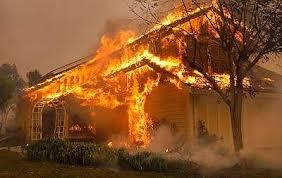fire: (18, 12, 249, 149)
